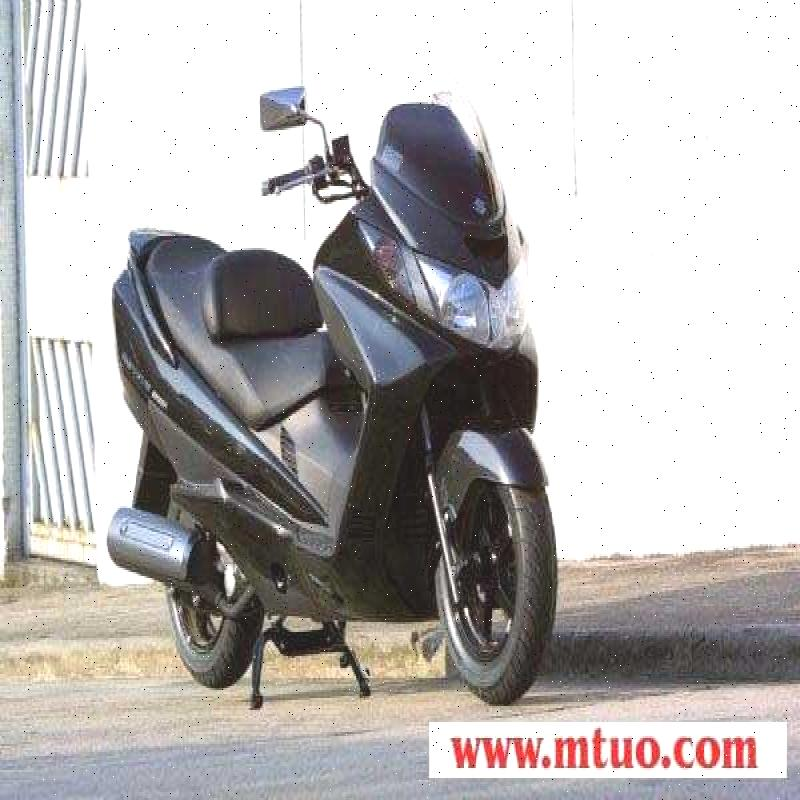bike: (94, 55, 569, 700)
